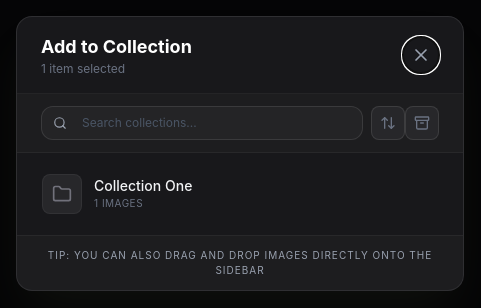
Test: AddToCollectionModal focus handoff › reports the sort popup as an expanded disclosure without claiming menu behavior
Step 1. Click the button named "Sort Collections" → [388, 122], box [371,106,405,140]
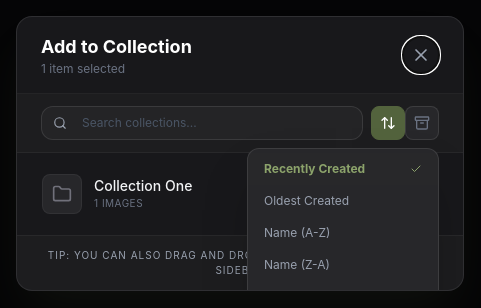
Check: the button named "Sort Collections" is expanded, box [371,106,405,140]
Check: the button "Name (A-Z)" is shown, box [248,216,438,248]
